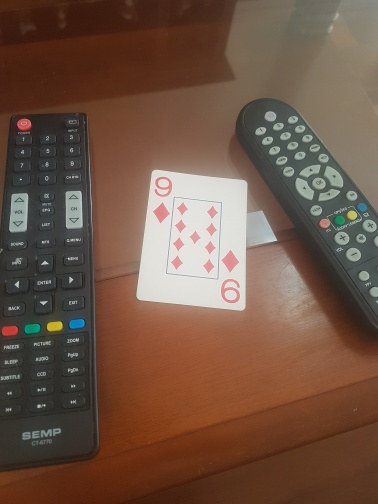nine: (136, 170, 248, 311)
